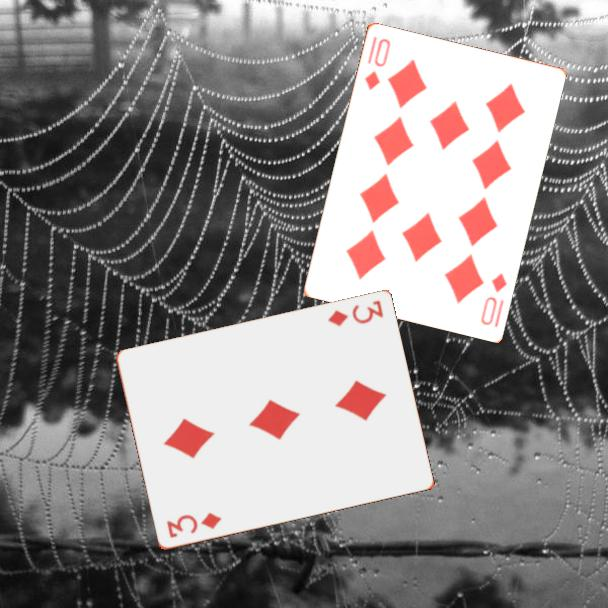d03: (324, 297, 386, 329), (163, 509, 224, 541)
d10: (477, 269, 509, 330), (361, 34, 393, 93)
